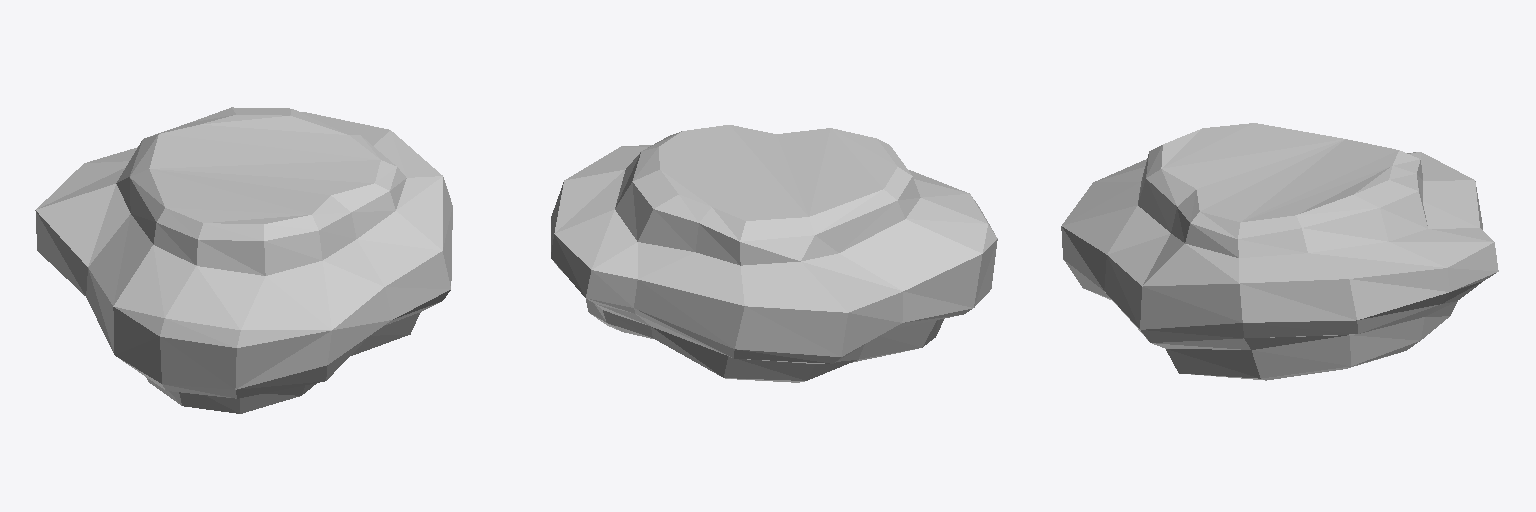
The model's file is rocks4.obj.
3 renders of one model, left to right at view 1: azimuth 30°, elevation 25°; view 2: azimuth 150°, elevation 25°; view 3: azimuth 270°, elevation 25°, orthographic.
Parts seen in each view (by area): view 1: (null)_sep8; view 2: (null)_sep8; view 3: (null)_sep8.
Boxes of the visible parts, box(x1,y1,x2,y2) form: (null)_sep8: box(35, 107, 452, 413); (null)_sep8: box(551, 125, 997, 382); (null)_sep8: box(1061, 123, 1498, 380).
Bounding box in the file's own units: 48.85 × 25.11 × 51.82.